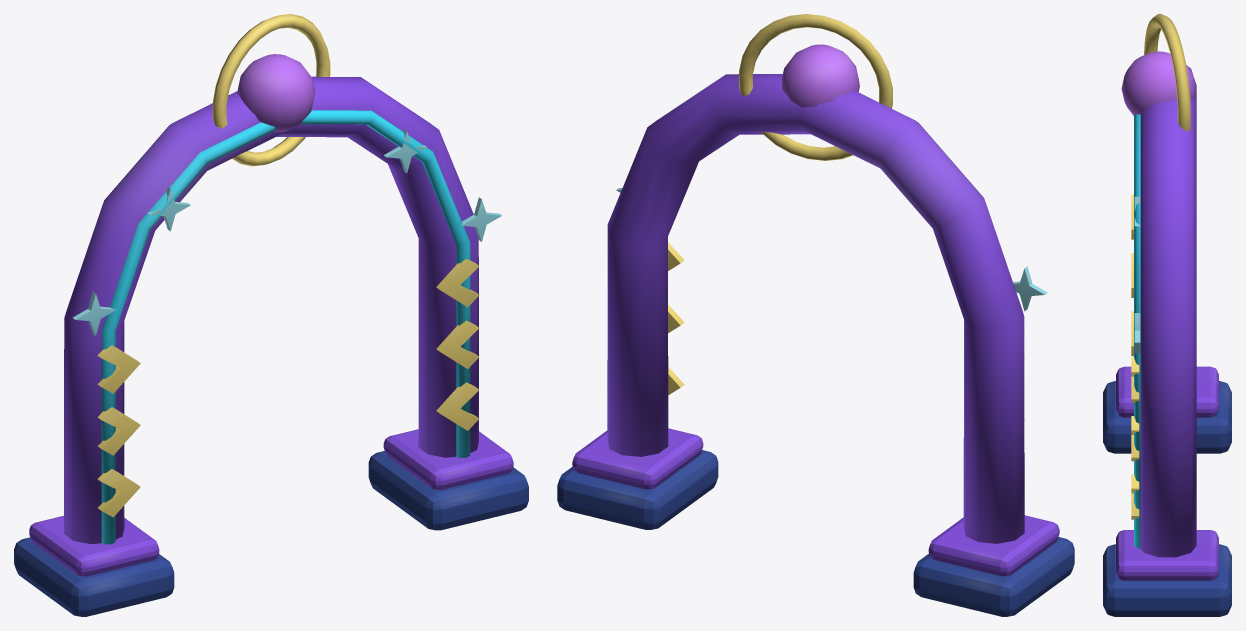
File: PortalSpace.fbx
3 views of the same model, side by side, from view 1: azimuth 30°, elevation 25°; view 2: azimuth 150°, elevation 25°; view 3: azimuth 270°, elevation 25° (orthographic). The views are drawn at different scales.
Parts seen in each view (by area): view 1: PortalSpace; view 2: PortalSpace; view 3: PortalSpace.
Part boxes in pixels (box(x1,y1,x2,y2)): PortalSpace: box(14, 14, 528, 616); PortalSpace: box(557, 14, 1074, 616); PortalSpace: box(1103, 14, 1231, 616).
Size of the model in its own units: 11.6 by 12.75 by 3.
1 material, 1 textured.
